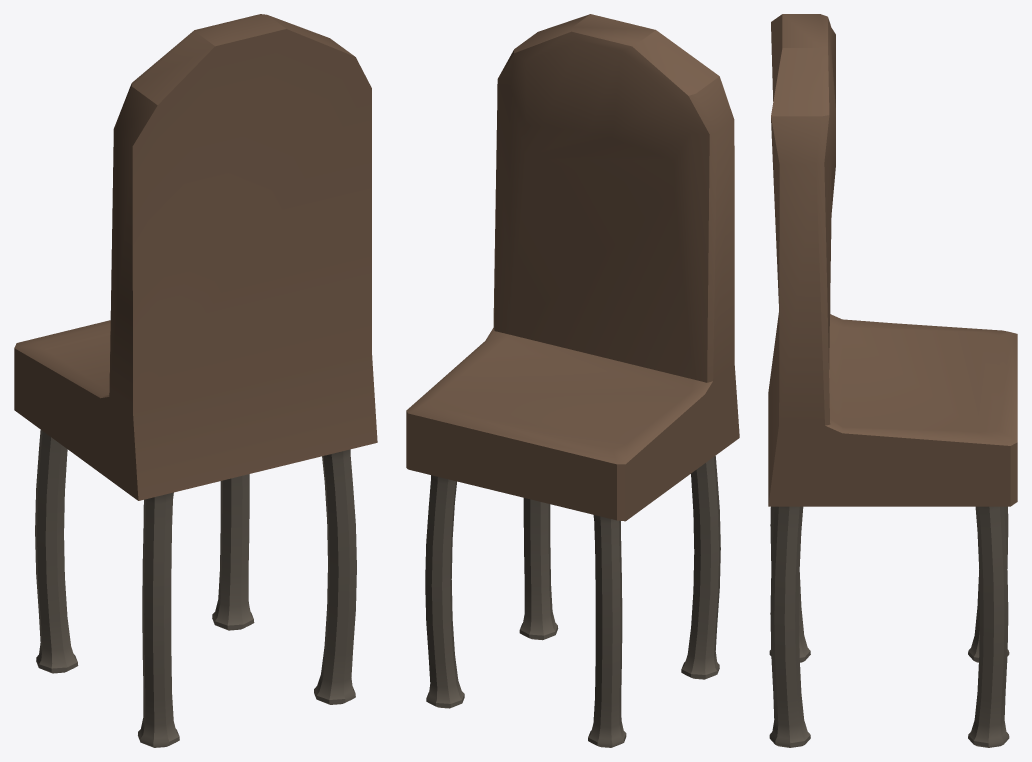
The model's file is chair.fbx.
3 renders of one model, left to right at view 1: azimuth 30°, elevation 25°; view 2: azimuth 150°, elevation 25°; view 3: azimuth 270°, elevation 25°, orthographic. The views are drawn at different scales.
Parts seen in each view (by area): view 1: Cube.001, Cube; view 2: Cube.001, Cube; view 3: Cube.001, Cube.
Part boxes in pixels (x1=…): Cube.001: x1=14, y1=14, x2=377, y2=500; Cube: x1=35, y1=430, x2=356, y2=747; Cube.001: x1=406, y1=14, x2=739, y2=521; Cube: x1=425, y1=456, x2=720, y2=747; Cube.001: x1=768, y1=14, x2=1017, y2=506; Cube: x1=769, y1=506, x2=1009, y2=747.
Size of the model in its own units: 70.1 by 192 by 64.84.
